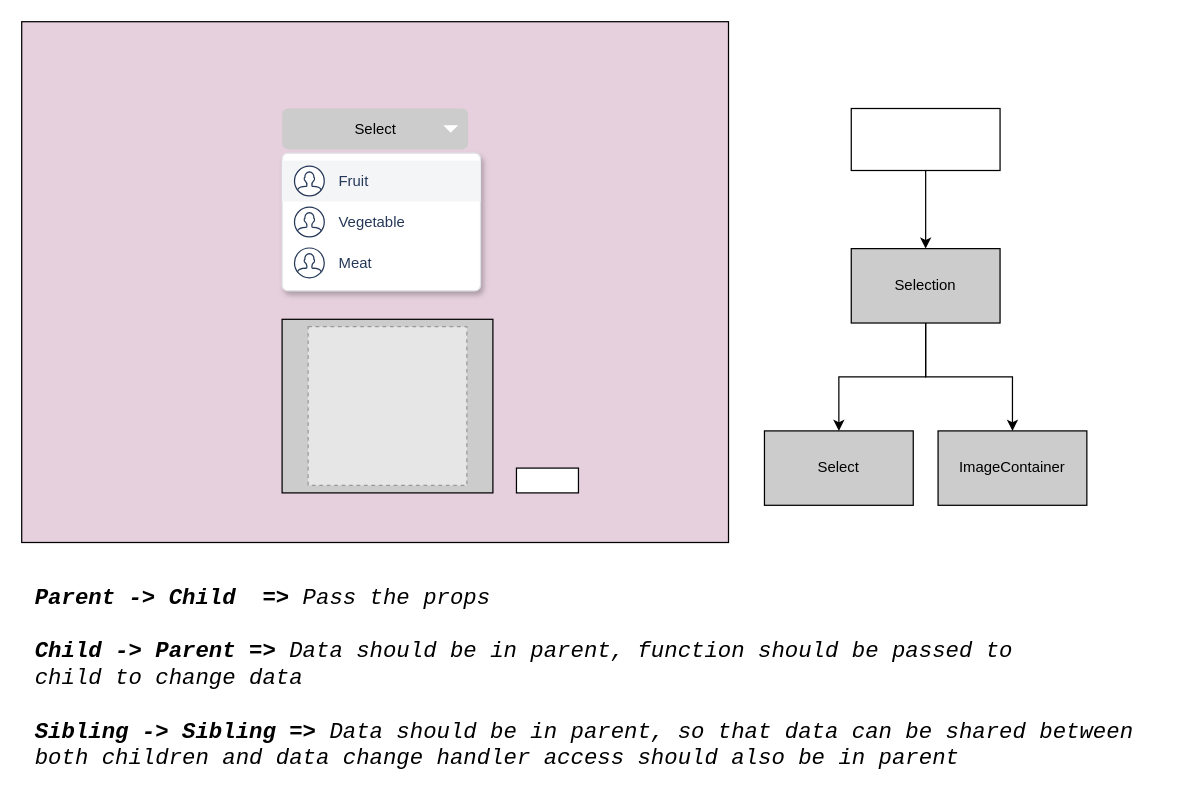
The diagram is 1183 pixels wide and 794 high, and some of its shapes have lost their labels. Grey dashed boxes stand in for pictures. Each missing label, with the centre of its shape:
App: point (925, 138)
clear: point (546, 480)
